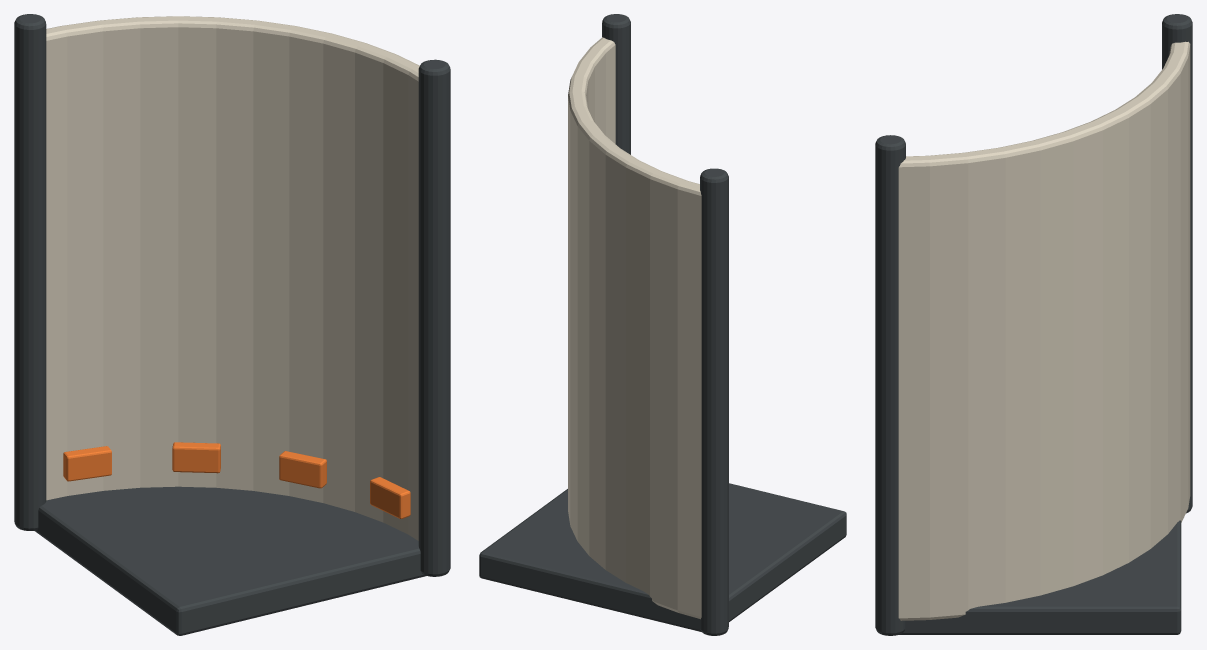
The model's file is structure_rounded_corner.glb.
The picture shows the model from 3 angles, left to right: view 1: azimuth 30°, elevation 25°; view 2: azimuth 150°, elevation 25°; view 3: azimuth 270°, elevation 25°; orthographic projection. The views are drawn at different scales.
Visible parts, largest first — view 1: Rounded pressure shell, Rounded floor plinth, Round corner end post, Round corner end post.001, Safety panel marker.002, Safety panel marker.003, Safety panel marker.001, Safety panel marker; view 2: Rounded pressure shell, Rounded floor plinth, Round corner end post.001, Round corner end post; view 3: Rounded pressure shell, Rounded floor plinth, Round corner end post, Round corner end post.001.
Part boxes in pixels (bbox=[...]): Rounded pressure shell: bbox=[46, 16, 419, 540]; Rounded floor plinth: bbox=[34, 486, 426, 635]; Round corner end post: bbox=[418, 59, 450, 576]; Round corner end post.001: bbox=[14, 14, 46, 530]; Safety panel marker.002: bbox=[172, 442, 220, 473]; Safety panel marker.003: bbox=[63, 446, 111, 481]; Safety panel marker.001: bbox=[279, 451, 326, 488]; Safety panel marker: bbox=[370, 477, 410, 518]; Rounded pressure shell: bbox=[568, 37, 701, 619]; Rounded floor plinth: bbox=[479, 483, 846, 631]; Round corner end post.001: bbox=[700, 168, 728, 635]; Round corner end post: bbox=[602, 14, 630, 154]; Rounded pressure shell: bbox=[898, 41, 1190, 620]; Rounded floor plinth: bbox=[899, 520, 1181, 634]; Round corner end post: bbox=[875, 135, 905, 635]; Round corner end post.001: bbox=[1162, 14, 1192, 513].
Size of the model in its own units: 1.64 by 2.82 by 1.64.
